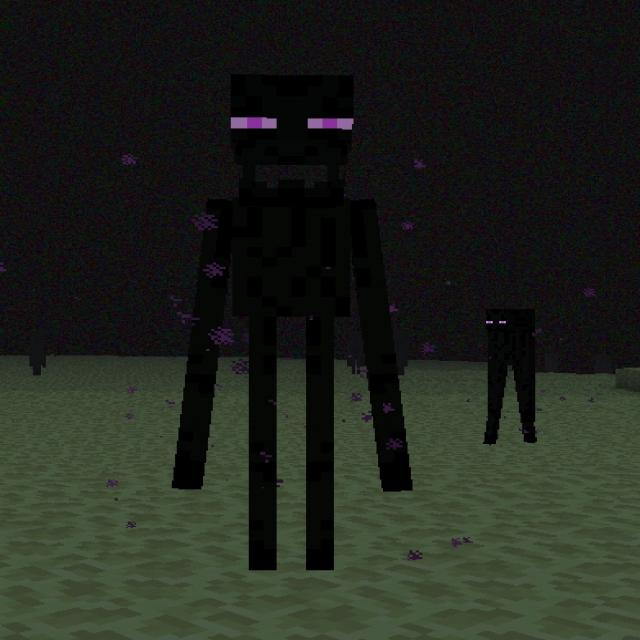Enderman: (166, 63, 410, 589), (455, 293, 565, 457)
